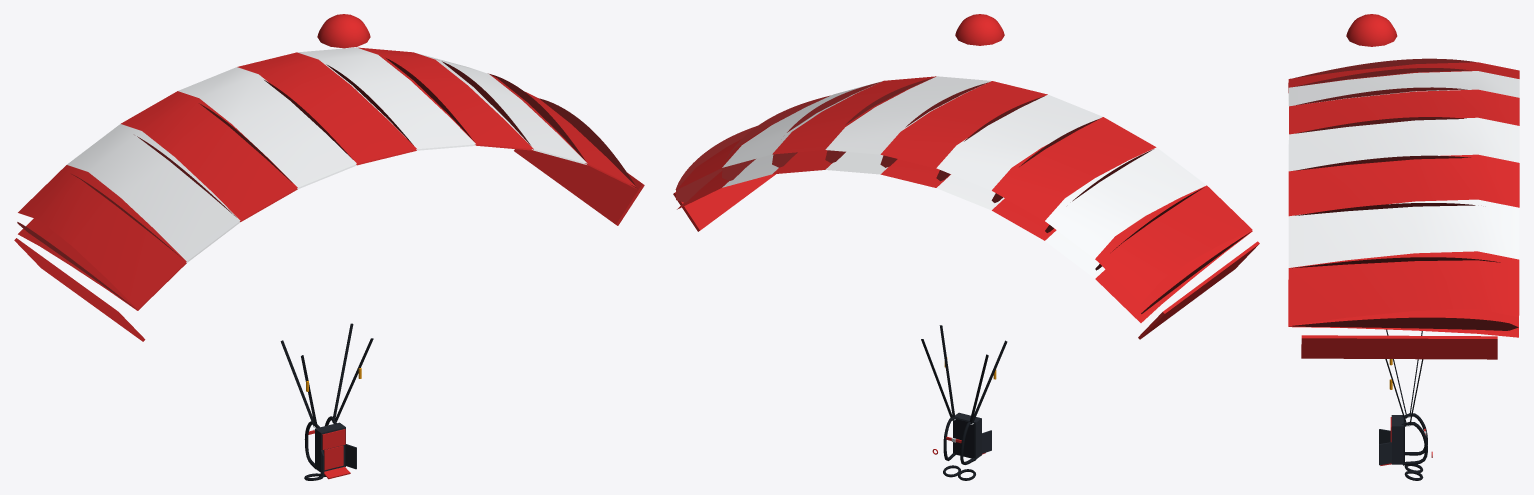
The model's file is mochila_paracaidas.glb.
The picture shows the model from 3 angles, left to right: view 1: azimuth 30°, elevation 25°; view 2: azimuth 150°, elevation 25°; view 3: azimuth 270°, elevation 25°; orthographic projection. The views are drawn at different scales.
Parts seen in each view (by area): view 1: Celda_1, Celda_2, Celda_3, Celda_4, Celda_5, Celda_6, Celda_7, Cupula_Paracaidas, Estabilizador_Cupula_Der, Celda_8, Celda_9, Estabilizador_Cupula_Izq (+3 smaller); view 2: Celda_1, Celda_2, Celda_3, Celda_4, Celda_5, Cupula_Paracaidas, Celda_6, Celda_7, Celda_8, Estabilizador_Cupula_Der, Celda_9, Estabilizador_Cupula_Izq (+4 smaller); view 3: Celda_9, Celda_8, Celda_7, Celda_6, Cupula_Paracaidas, Celda_5, Estabilizador_Cupula_Der, Celda_4, Celda_3, Pilotillo, Arnes_Correas, Mochila_Cuerpo (+2 smaller).
Part boxes in pixels (x1,y1,x2,y2): Celda_1: (18, 165, 186, 310); Celda_2: (67, 124, 240, 262); Celda_3: (121, 91, 297, 221); Celda_4: (178, 67, 356, 189); Celda_5: (237, 52, 416, 165); Celda_6: (297, 47, 476, 150); Celda_7: (358, 47, 533, 150); Cupula_Paracaidas: (17, 58, 636, 309); Estabilizador_Cupula_Der: (514, 149, 644, 225); Celda_8: (416, 53, 587, 164); Celda_9: (490, 74, 636, 188); Estabilizador_Cupula_Izq: (14, 238, 145, 341); Celda_1: (1095, 185, 1252, 322); Celda_2: (1045, 147, 1206, 278); Celda_3: (992, 117, 1156, 240); Celda_4: (936, 94, 1102, 210); Celda_5: (880, 81, 1047, 187); Cupula_Paracaidas: (675, 77, 1251, 313); Celda_6: (825, 76, 991, 174); Celda_7: (772, 76, 936, 174); Celda_8: (722, 81, 882, 187); Estabilizador_Cupula_Der: (673, 174, 775, 231); Celda_9: (676, 112, 795, 209); Estabilizador_Cupula_Izq: (1138, 241, 1259, 339); Celda_9: (1288, 251, 1519, 337); Celda_8: (1288, 199, 1519, 267); Celda_7: (1288, 154, 1519, 216); Celda_6: (1288, 117, 1519, 171); Cupula_Paracaidas: (1289, 58, 1518, 330); Celda_5: (1289, 89, 1519, 134); Estabilizador_Cupula_Der: (1301, 335, 1497, 359); Celda_4: (1288, 71, 1519, 106); Celda_3: (1288, 62, 1519, 87); Pilotillo: (1346, 14, 1397, 46); Arnes_Correas: (1401, 413, 1427, 480); Mochila_Cuerpo: (1390, 415, 1404, 464).
Size of the model in its own units: 7.23 by 6.25 by 2.86.
